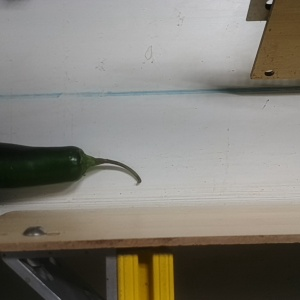Cut Point: (65, 145, 98, 181)
